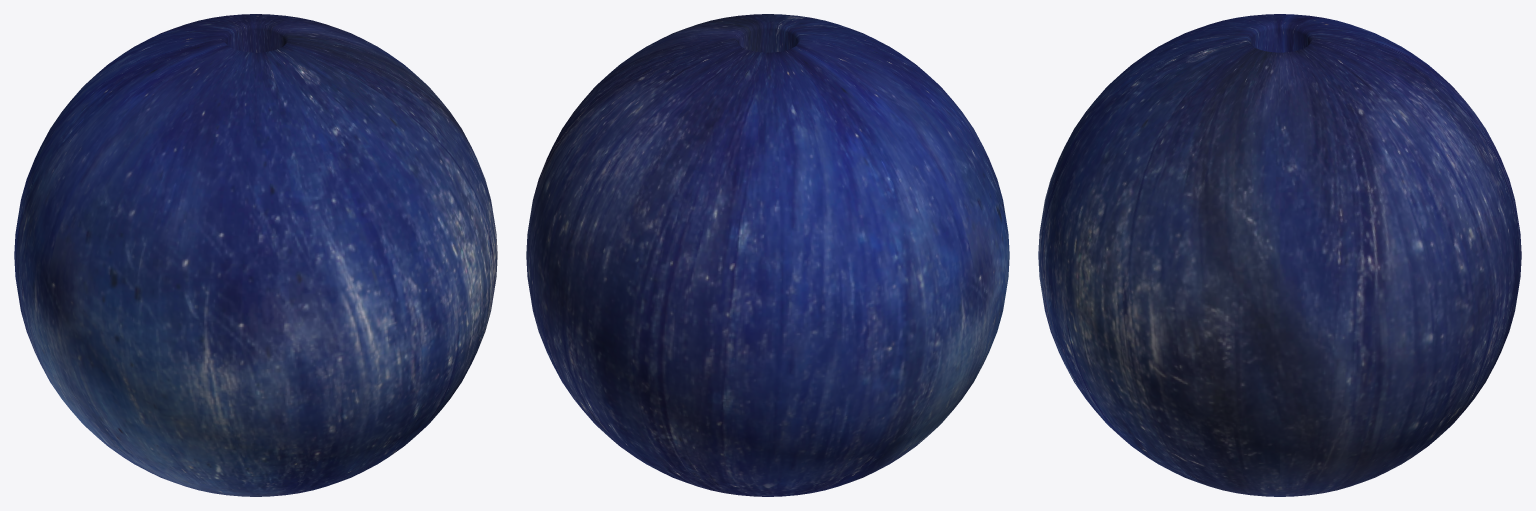
The picture shows the model from 3 angles, left to right: view 1: azimuth 30°, elevation 25°; view 2: azimuth 150°, elevation 25°; view 3: azimuth 270°, elevation 25°; orthographic projection.
Visible parts, largest first — view 1: Sphere.001; view 2: Sphere.001; view 3: Sphere.001.
Boxes of the visible parts, left/top/right/bottom form: Sphere.001: left=14, top=14, right=497, bottom=496; Sphere.001: left=526, top=14, right=1009, bottom=496; Sphere.001: left=1038, top=14, right=1521, bottom=496.
Bounding box in the file's own units: 1 × 0.9894 × 1.
1 material, 1 textured.
